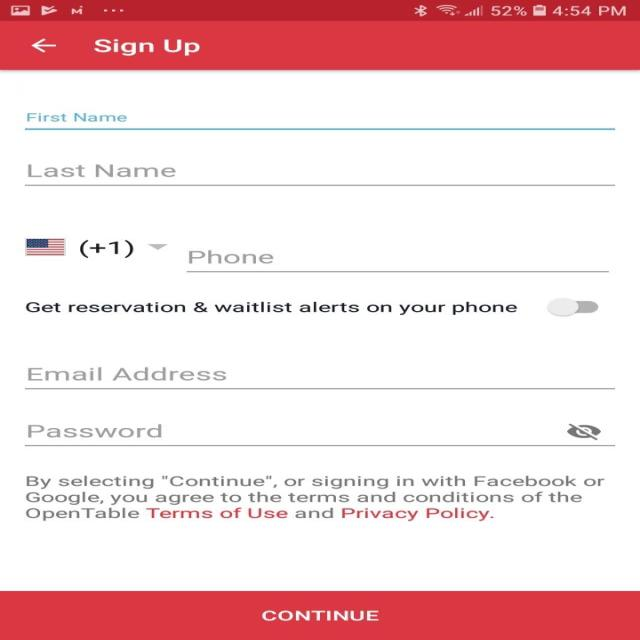EditText: (24, 366, 614, 389), (24, 423, 614, 446), (25, 164, 615, 186), (24, 112, 614, 130), (186, 250, 609, 272)
Icon: (566, 423, 601, 440), (30, 38, 57, 53), (146, 244, 168, 250)
Image: (25, 237, 67, 256)
Text: (24, 474, 604, 521), (25, 301, 518, 315), (28, 366, 226, 381), (93, 39, 200, 57), (28, 164, 176, 177), (28, 423, 162, 437), (187, 250, 273, 264), (79, 239, 134, 258), (27, 113, 128, 122)
TextButton: (0, 590, 639, 640)
